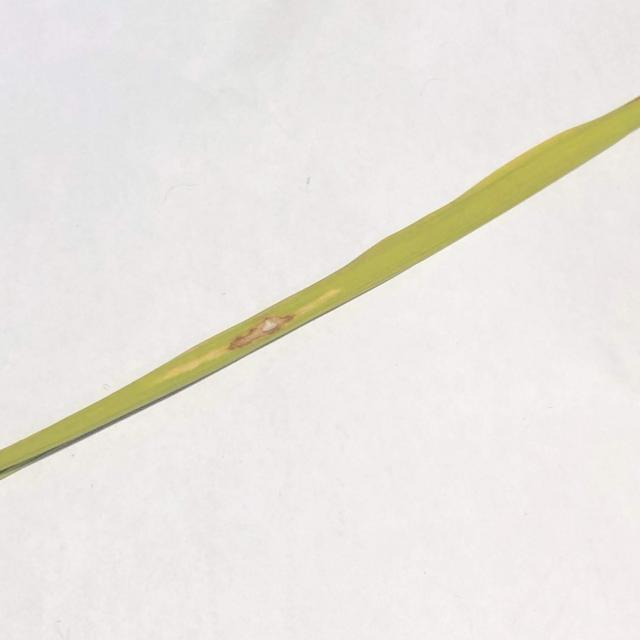Blast: (253, 316, 280, 334)
